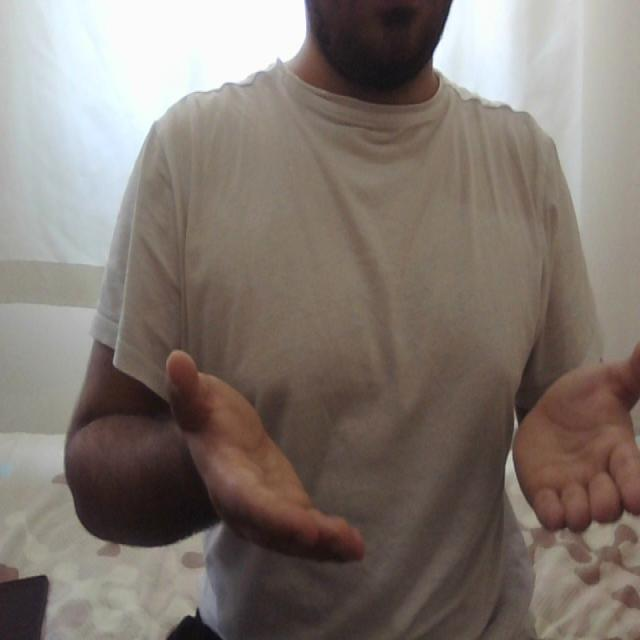Evet: (159, 340, 640, 568)
